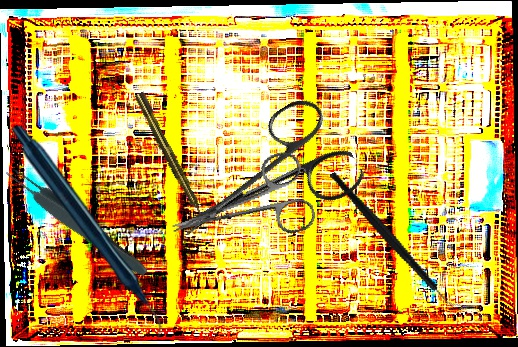Chopper: (329, 146, 465, 334)
Handpiece: (10, 126, 164, 338), (132, 90, 209, 222)
Iris Scissors: (157, 89, 369, 278), (160, 148, 319, 265)
Tissue Forceps: (1, 160, 153, 282)
